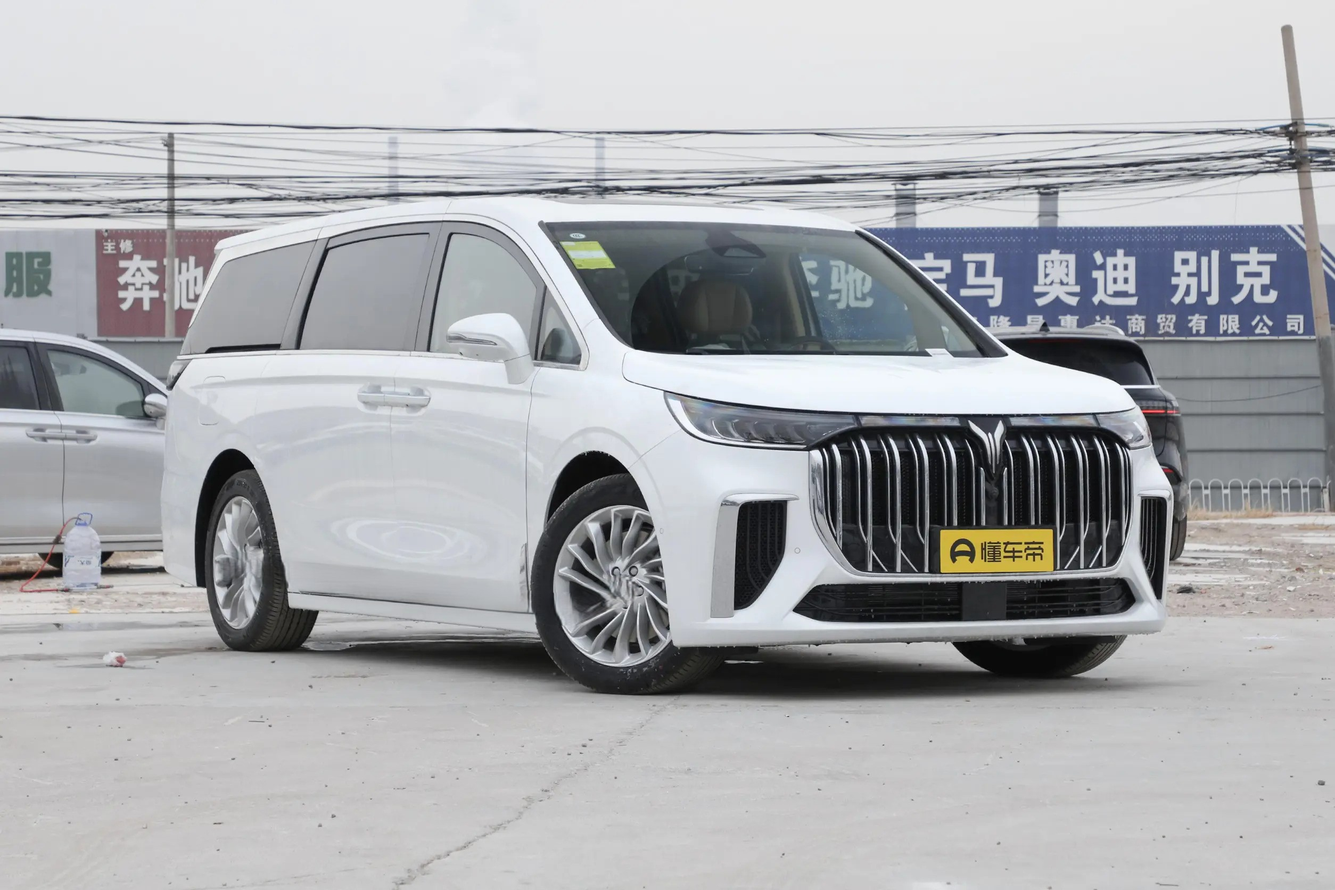VOYAH: (968, 421, 1003, 473)
